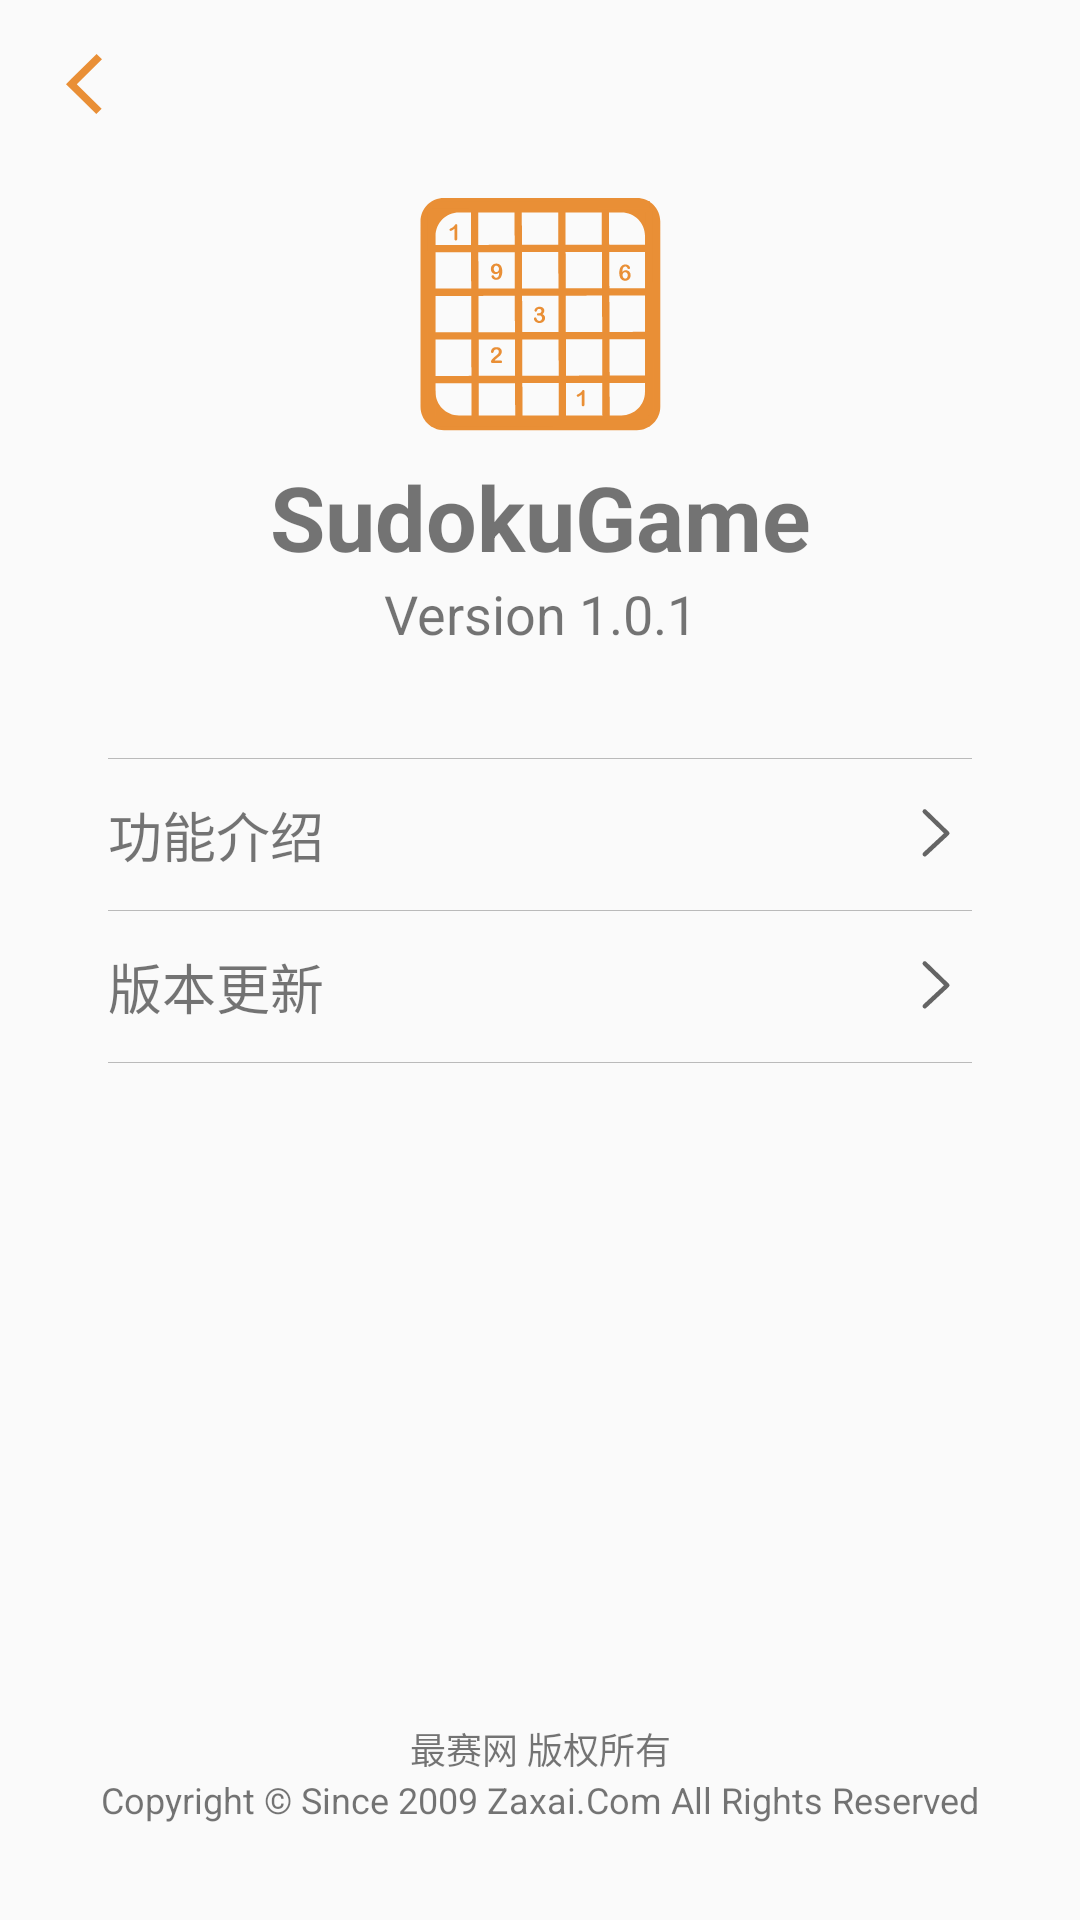

Screen size 1080 × 1920. Icon name, then its box in pixels as bbox(x1, y1, x2, y2):
Back: bbox(66, 54, 102, 114)
